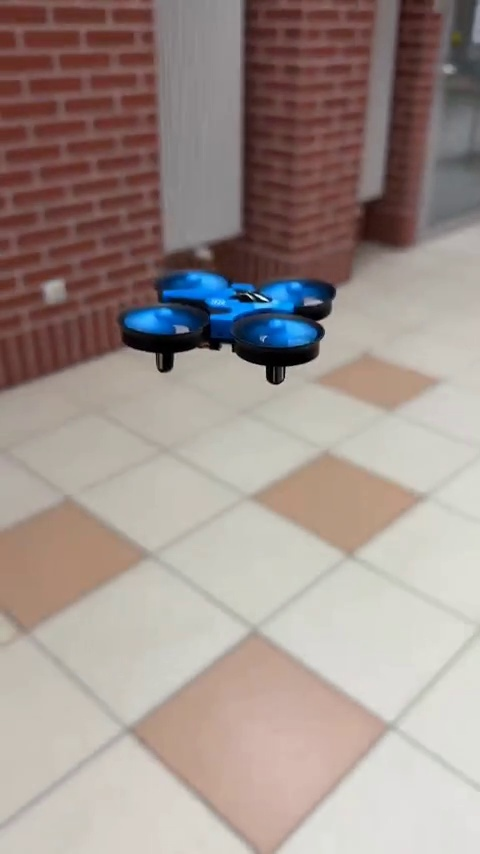drone: (120, 273, 328, 387)
